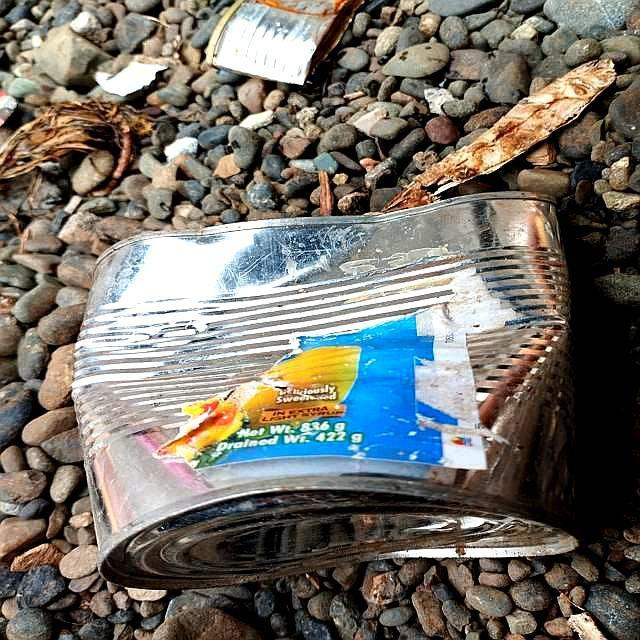Non-biodegradable: (71, 190, 581, 590)
